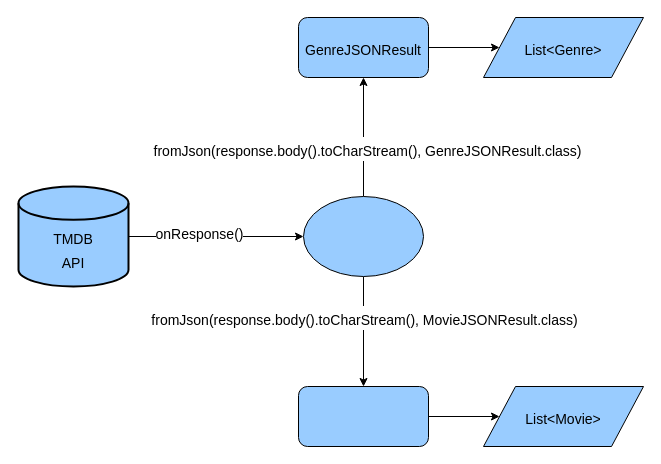
This 661x464 diagram has some shape labels left out. The box of each missing label's shape, as (x1, y1, x2, y2) in pixels:
GSON: (302, 196, 424, 276)
MovieJSONResult: (298, 386, 428, 446)
